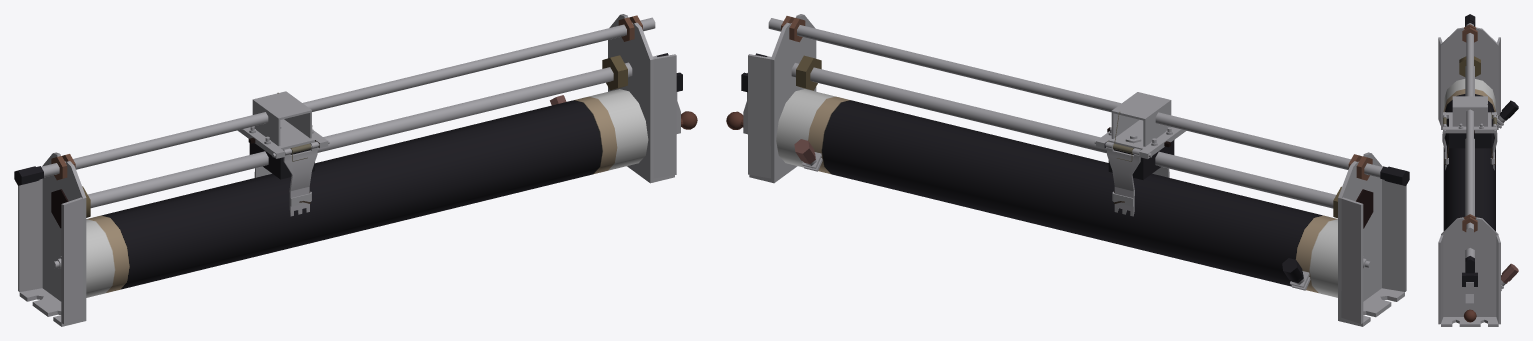
The model's file is 滑动变阻器.FBX.
The picture shows the model from 3 angles, left to right: view 1: azimuth 30°, elevation 25°; view 2: azimuth 150°, elevation 25°; view 3: azimuth 270°, elevation 25°; orthographic projection. The views are drawn at different scales.
Parts seen in each view (by area): view 1: Object01, Object02, Object04; view 2: Object01, Object02, Object04; view 3: Object01, Object04, Object02.
Part boxes in pixels (left/top/right/bottom): Object01: left=14, top=14, right=676, bottom=326; Object02: left=88, top=53, right=697, bottom=208; Object04: left=237, top=91, right=329, bottom=216; Object01: left=748, top=14, right=1409, bottom=326; Object02: left=726, top=53, right=1335, bottom=208; Object04: left=1094, top=92, right=1186, bottom=216; Object01: left=1438, top=14, right=1518, bottom=326; Object04: left=1442, top=96, right=1497, bottom=170; Object02: left=1462, top=66, right=1477, bottom=322.
Size of the model in its own units: 575 by 122 by 86.06.
